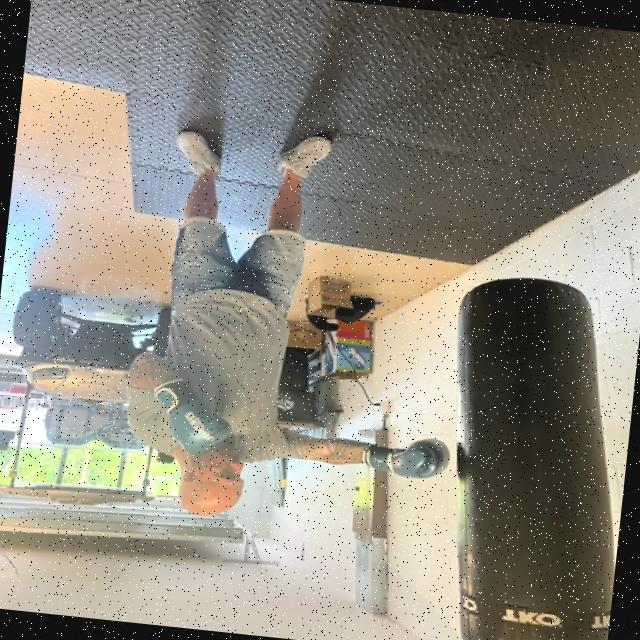jab: (118, 354, 469, 548)
